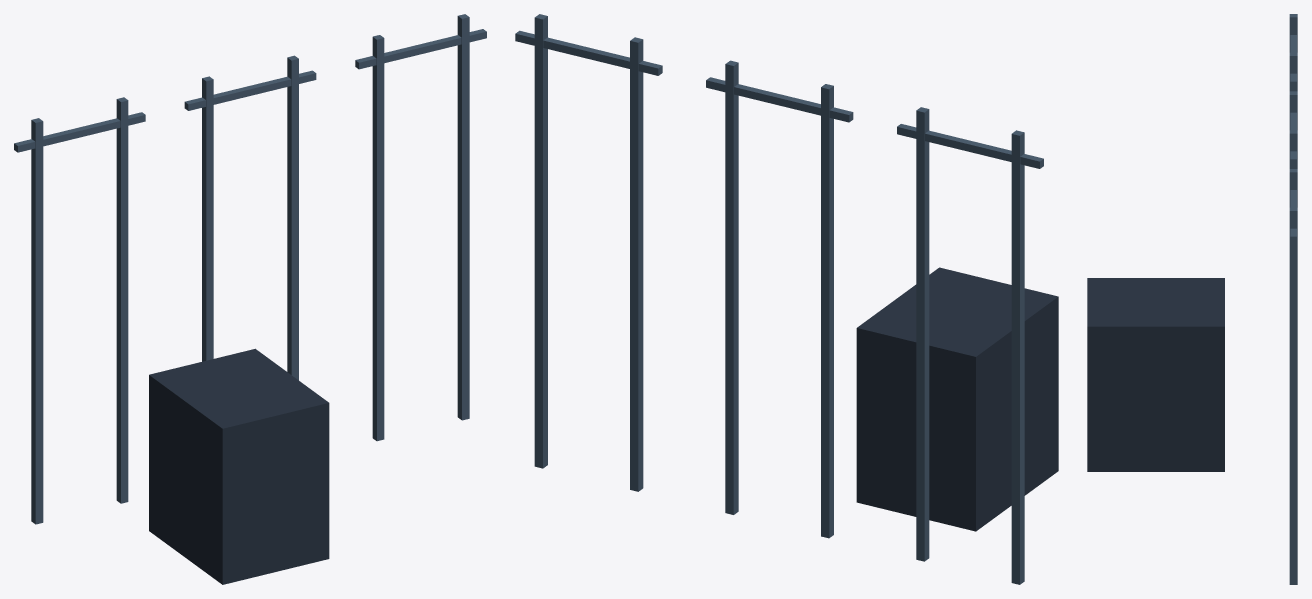
Rendered from switchyard.glb.
3 renders of one model, left to right at view 1: azimuth 30°, elevation 25°; view 2: azimuth 150°, elevation 25°; view 3: azimuth 270°, elevation 25°, orthographic. The views are drawn at different scales.
Size of the model in its own units: 22 by 18 by 9.17.
